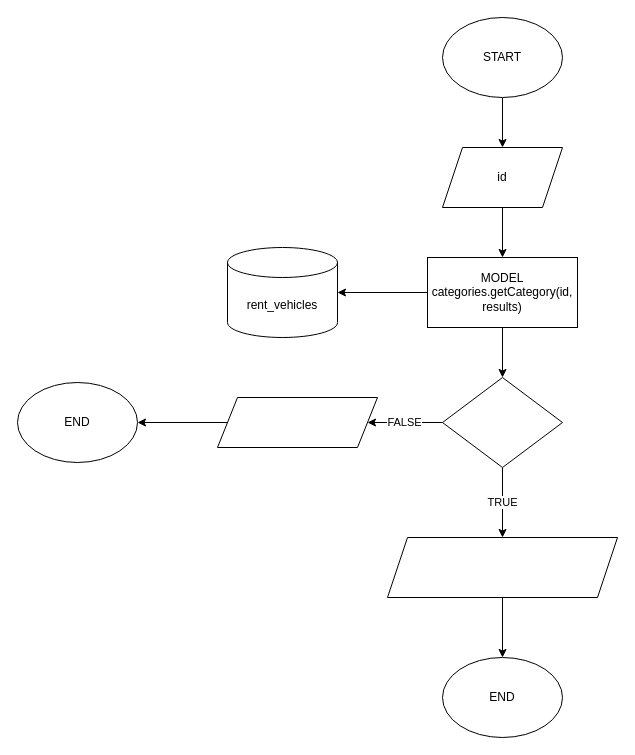
This 635x755 diagram has some shape labels left out. Each missing label, with the centre of its shape:
"results.length > 0" belongs at [502,422].
"success: false, message: `Category not found with id ${id}`," belongs at [297,422].
"success: true, message: `Data ategory with id ${id}`, results: results[0]" belongs at [502,567].
